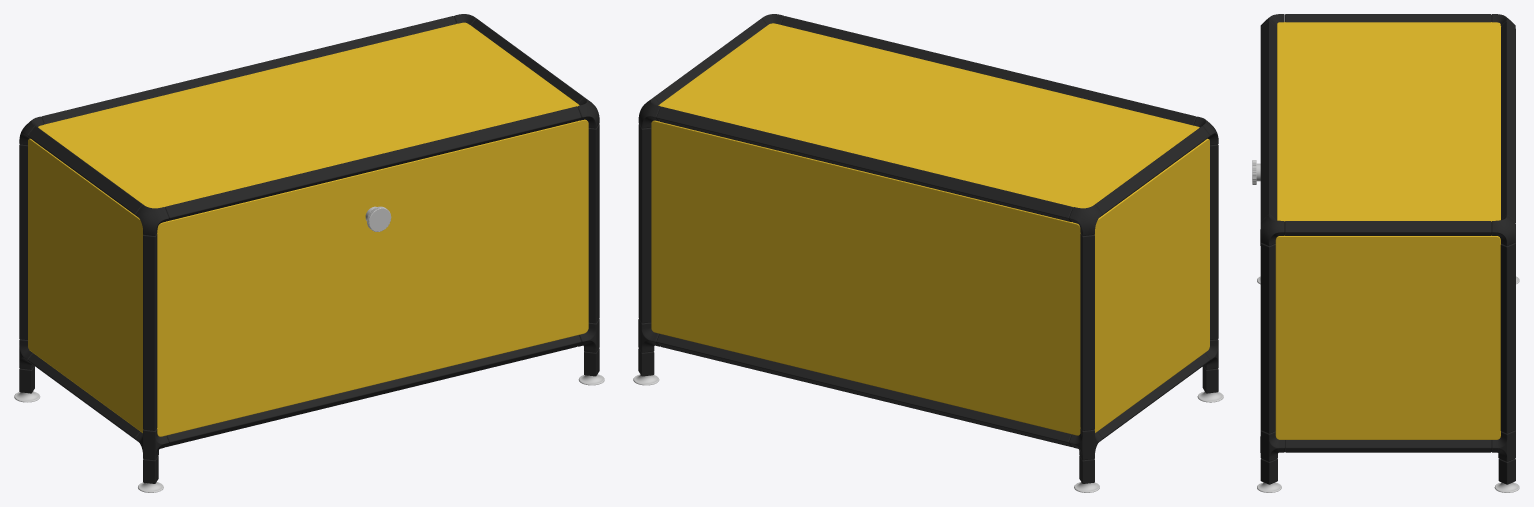
The picture shows the model from 3 angles, left to right: view 1: azimuth 30°, elevation 25°; view 2: azimuth 150°, elevation 25°; view 3: azimuth 270°, elevation 25°; orthographic projection. The views are drawn at different scales.
Visible parts, largest first — view 1: 729x329x329; view 2: 729x329x329; view 3: 729x329x329.
Part boxes in pixels (left/top/right/bottom): 729x329x329: left=14, top=14, right=604, bottom=492; 729x329x329: left=633, top=14, right=1223, bottom=492; 729x329x329: left=1252, top=14, right=1519, bottom=492.
Bounding box in the file's own units: 0.8189 × 0.4683 × 0.4257.
